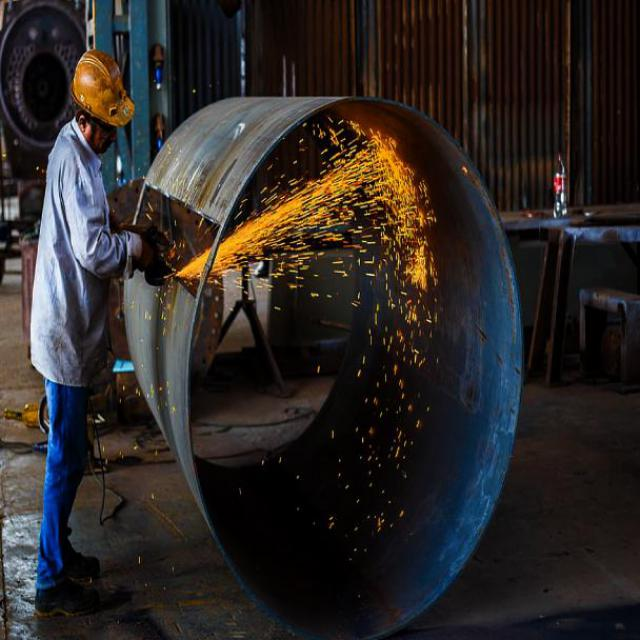gloves: (136, 218, 170, 308)
helmet: (59, 34, 150, 158)
